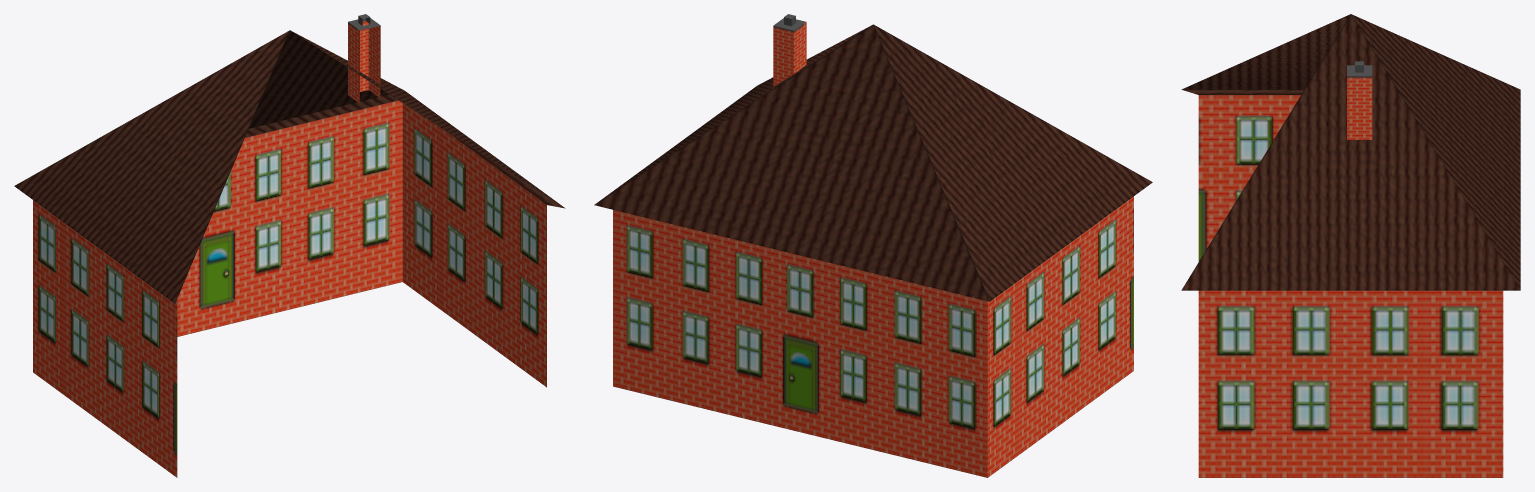
Rendered from House_06.FBX.
3 renders of one model, left to right at view 1: azimuth 30°, elevation 25°; view 2: azimuth 150°, elevation 25°; view 3: azimuth 270°, elevation 25°, orthographic. The views are drawn at different scales.
Visible parts, largest first — view 1: House_02, Chimneys_02; view 2: House_02, Chimneys_02; view 3: House_02, Chimneys_02.
Part boxes in pixels (x1,y1,x2,y2): House_02: [14, 30, 565, 477]; Chimneys_02: [348, 14, 380, 103]; House_02: [594, 24, 1152, 477]; Chimneys_02: [773, 14, 806, 86]; House_02: [1181, 14, 1520, 477]; Chimneys_02: [1347, 61, 1372, 139].
Size of the model in its own units: 125 by 107 by 89.23.
